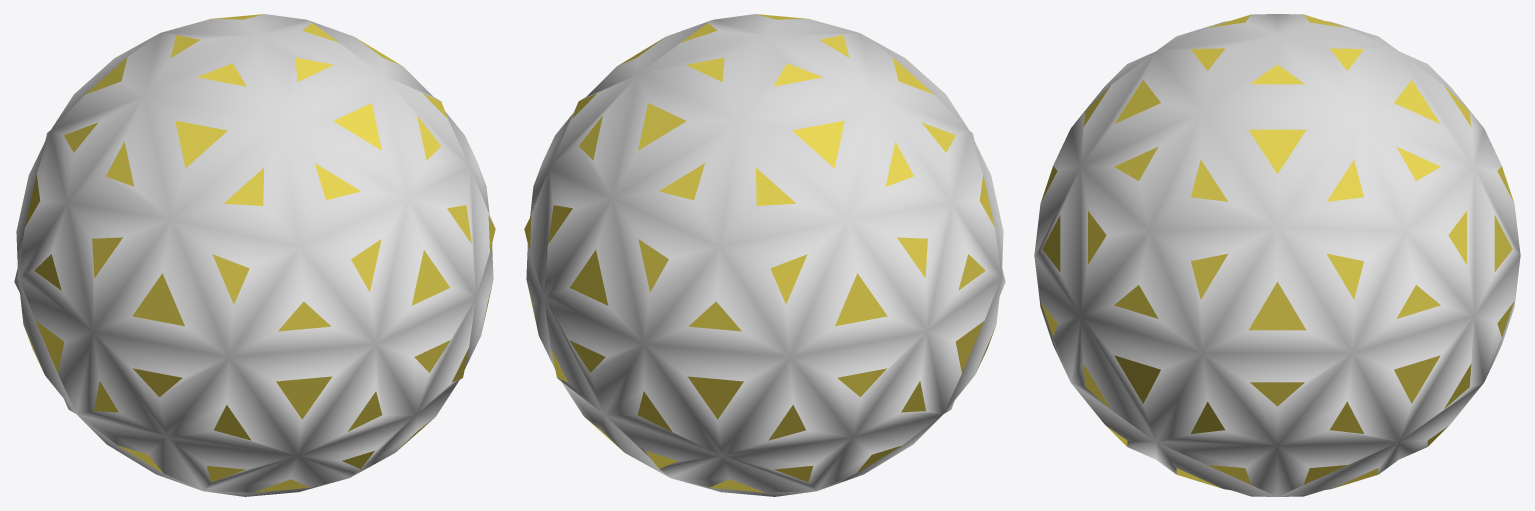
The model's file is InteractionBall.fbx.
3 renders of one model, left to right at view 1: azimuth 30°, elevation 25°; view 2: azimuth 150°, elevation 25°; view 3: azimuth 270°, elevation 25°, orthographic.
Visible parts, largest first — view 1: InteractionBall; view 2: InteractionBall; view 3: InteractionBall.
Part boxes in pixels (x1,y1,x2,y2): InteractionBall: (14, 14, 495, 496); InteractionBall: (524, 14, 1005, 496); InteractionBall: (1034, 14, 1520, 496).
Bounding box in the file's own units: 0.9879 × 1 × 1.
